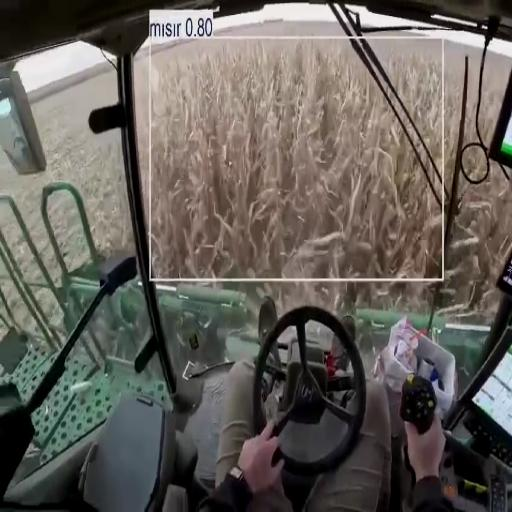misir: (150, 39, 442, 277), (371, 41, 458, 165)
